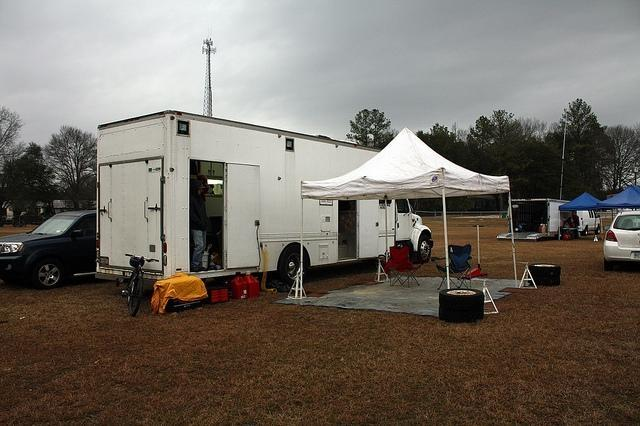bicycle: (116, 252, 162, 313)
car: (0, 209, 96, 289), (604, 208, 640, 270)
truck: (79, 110, 438, 292), (498, 200, 601, 238)
